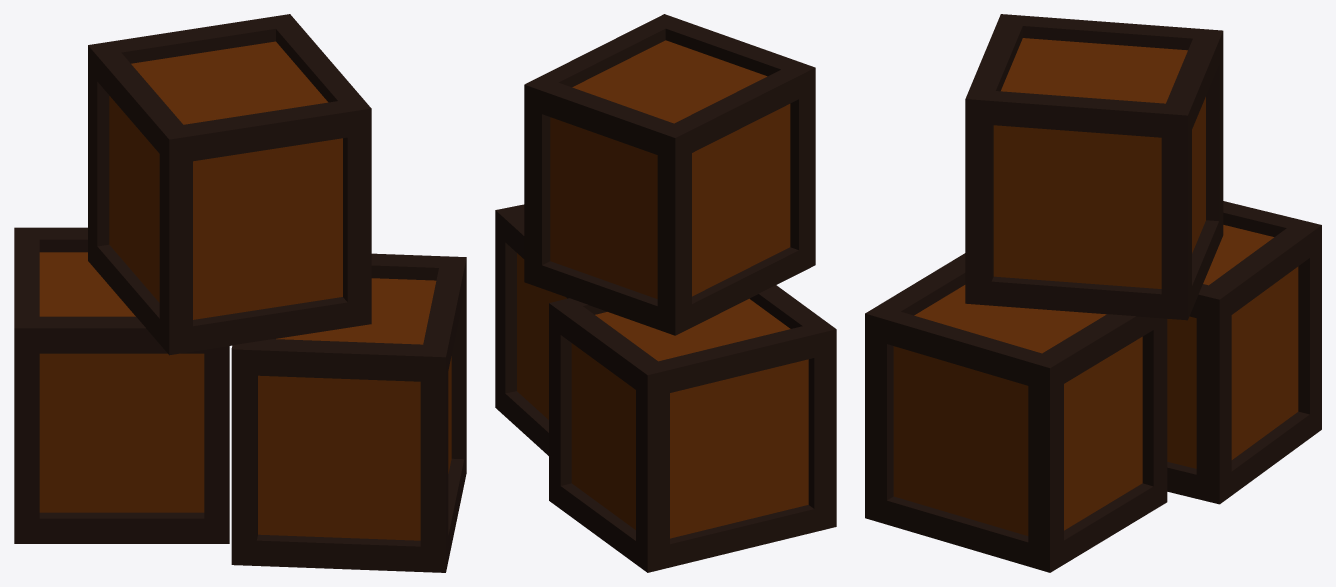
File: Pyramid Crates.fbx
3 views of the same model, side by side, from view 1: azimuth 30°, elevation 25°; view 2: azimuth 150°, elevation 25°; view 3: azimuth 270°, elevation 25° (orthographic). The views are drawn at different scales.
Visible parts, largest first — view 1: Crate 004; view 2: Crate 004; view 3: Crate 004.
Boxes of the visible parts, box(x1,y1,x2,y2) form: Crate 004: box(14, 14, 466, 572); Crate 004: box(495, 14, 836, 572); Crate 004: box(865, 14, 1321, 572).
Bounding box in the file's own units: 36.67 × 36.63 × 37.06.
